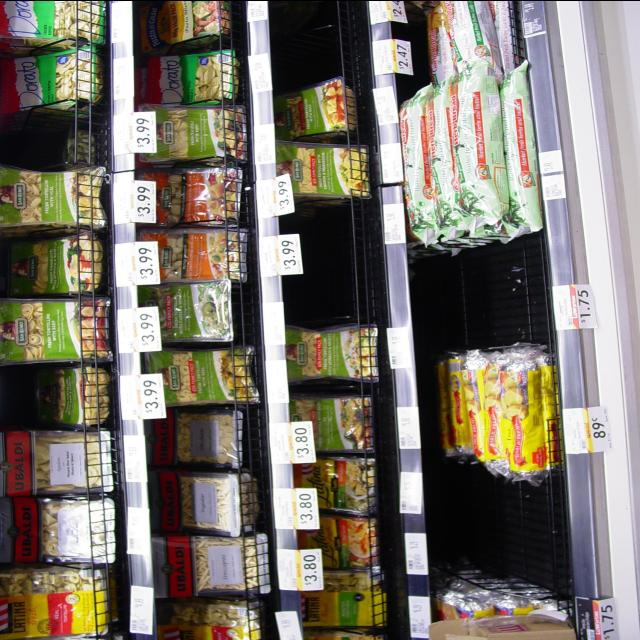empty_space: (438, 246, 542, 340), (458, 485, 558, 567), (315, 200, 373, 316), (286, 6, 354, 80), (21, 113, 92, 163)
